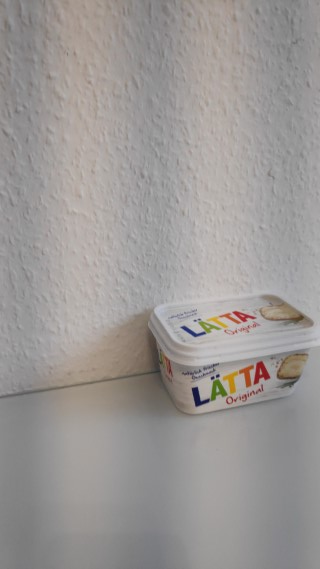laetta: (147, 291, 320, 415)
